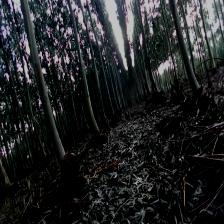trunk: (21, 9, 67, 169), (70, 11, 101, 136), (171, 9, 202, 95)
